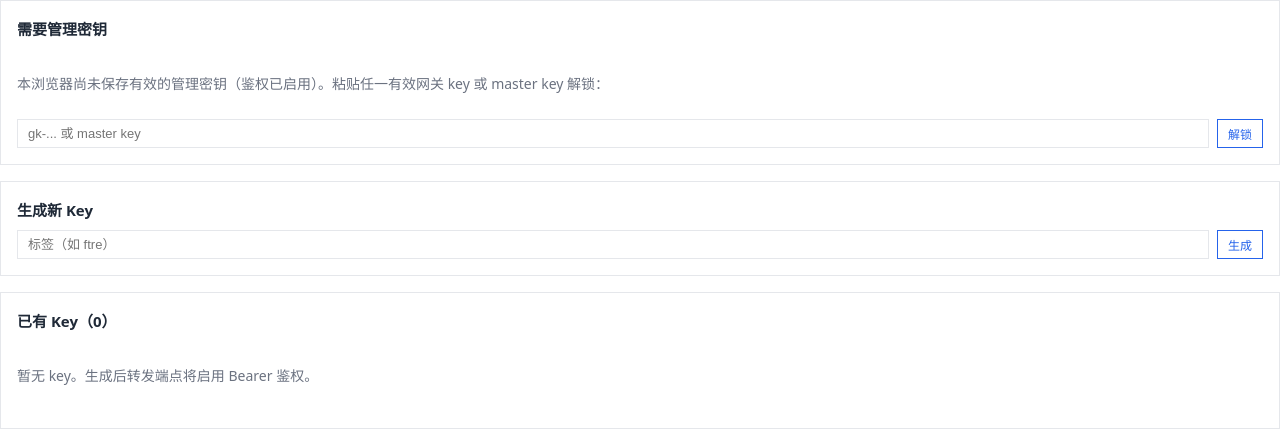
KeysPanel › 401 时显示解锁入口，输入有效 key 后恢复
This screenshot has width=1280, height=446.
Expected: the element with test id "key-unlock" is shown, [0, 0, 1279, 165]
Step 1. Type "gk-saved-key" into the field with test id "unlock-input" → (613, 134), box [17, 119, 1209, 148]
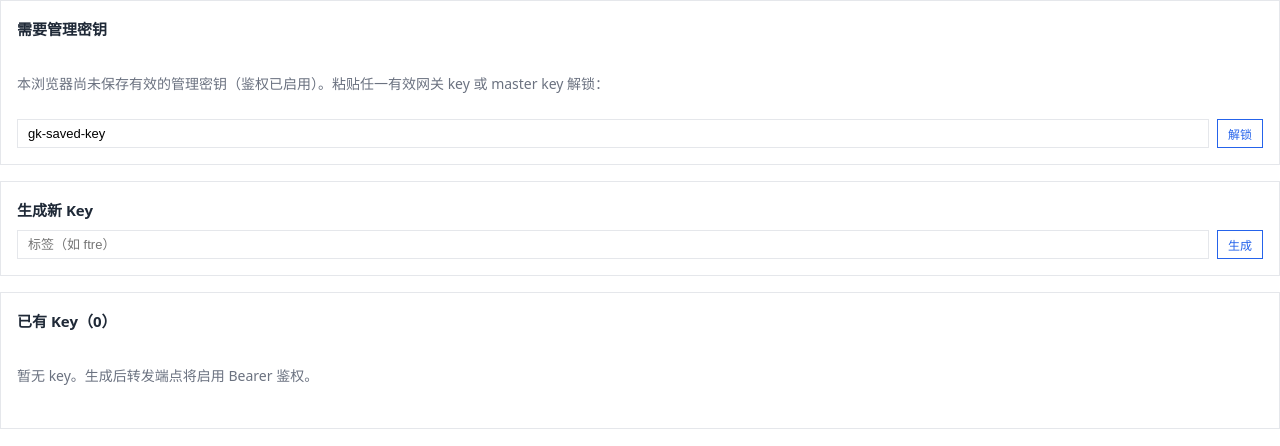
Step 2. Click the button with test id "unlock-btn" → click(1240, 134), box [1217, 119, 1263, 148]
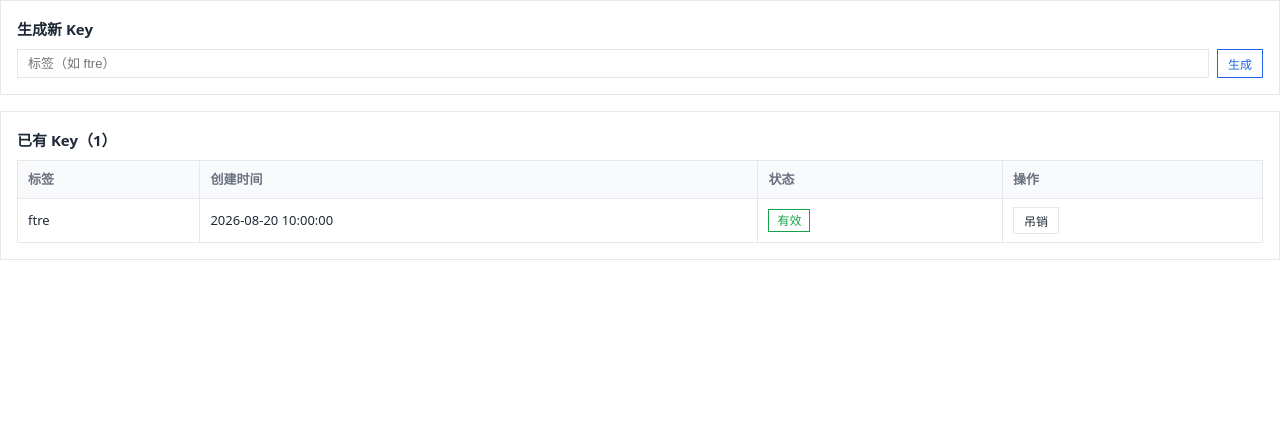
Expected: the text "ftre" is shown, [18, 198, 200, 242]
Expected: the element with test id "key-unlock" is gone
